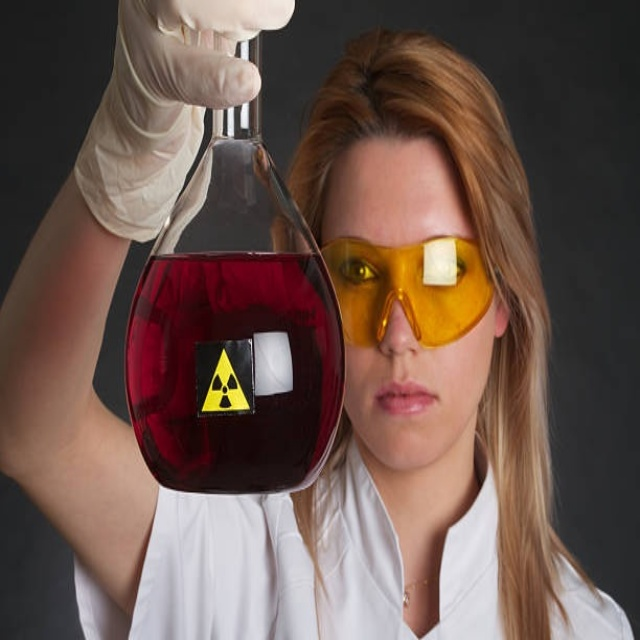Gafas: (318, 234, 497, 347)
Guantes: (75, 0, 295, 246)
Sin_mascara: (362, 367, 447, 452)
